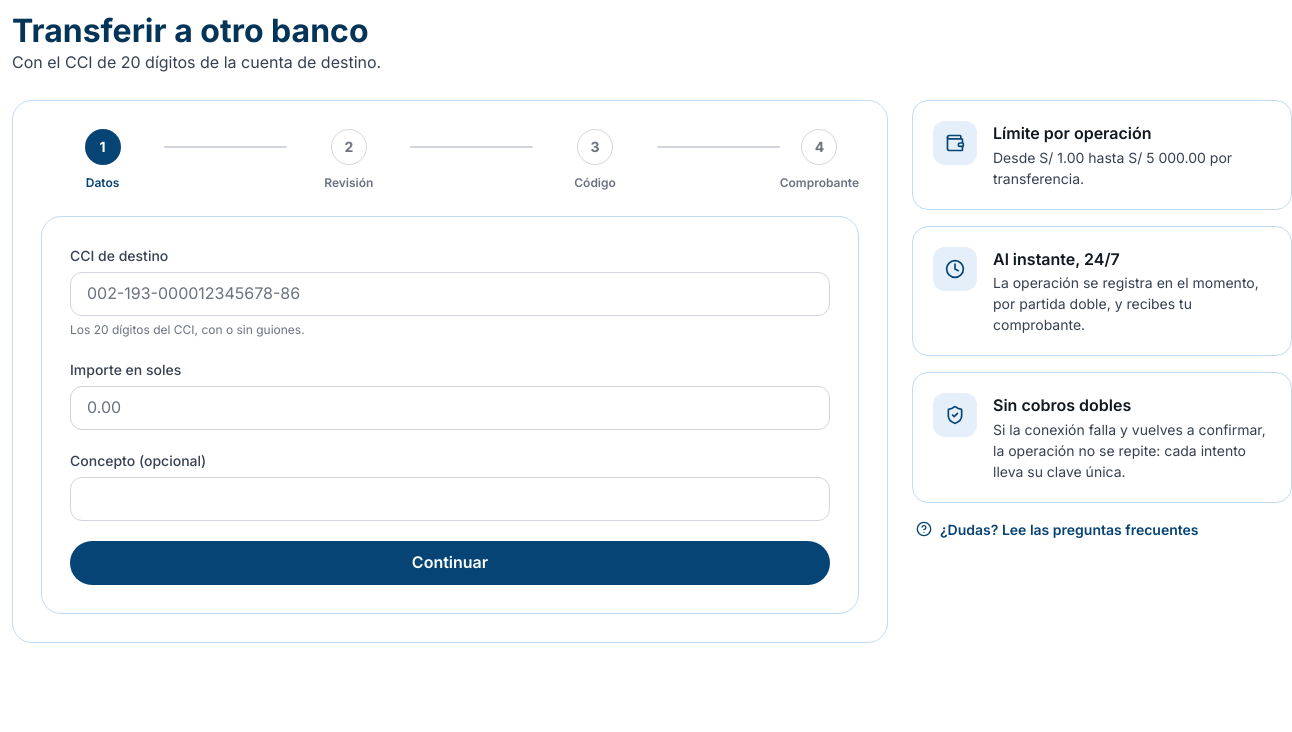
Transferencia interbancaria (HU-11) › no deja continuar con un CCI sin validar ni con un importe mal escrito
Type "12,5,0" into the field labelled "Importe en soles" at x=450, y=408, box [70,386,830,430]
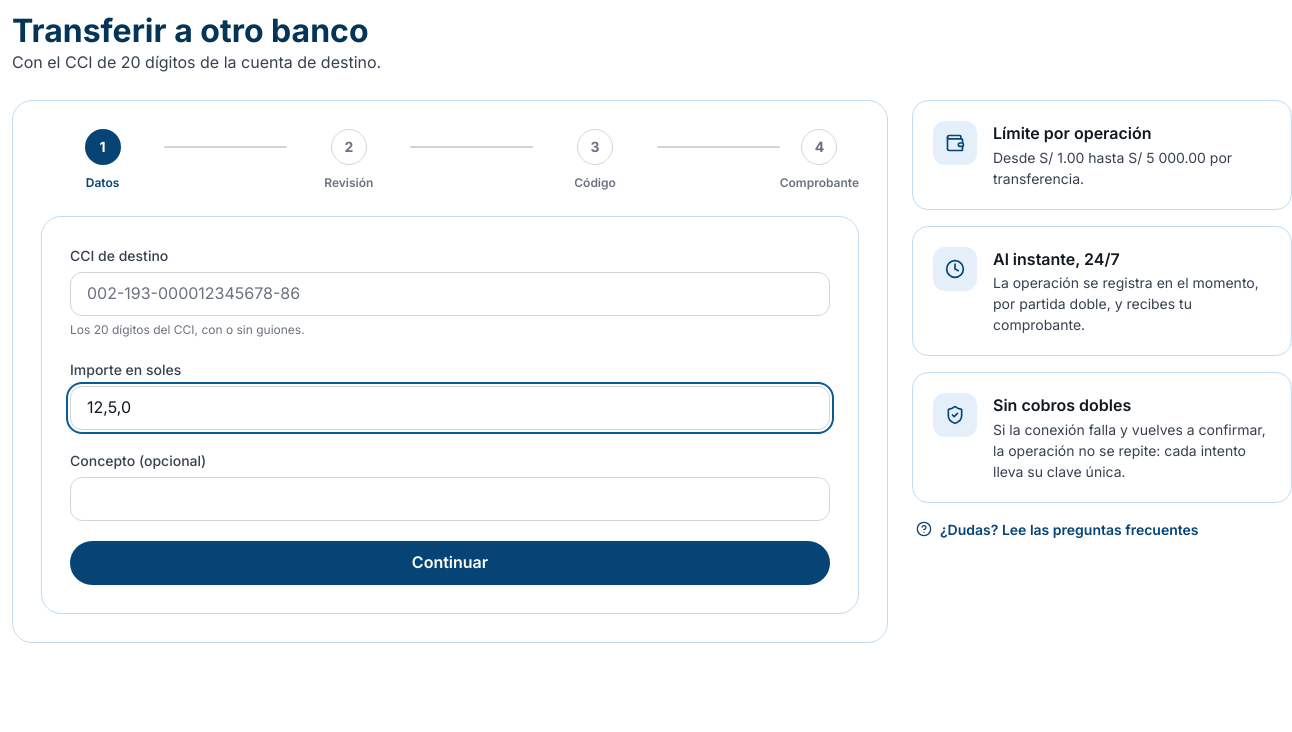
Click the button "Continuar" at x=450, y=563, box [70,541,830,585]
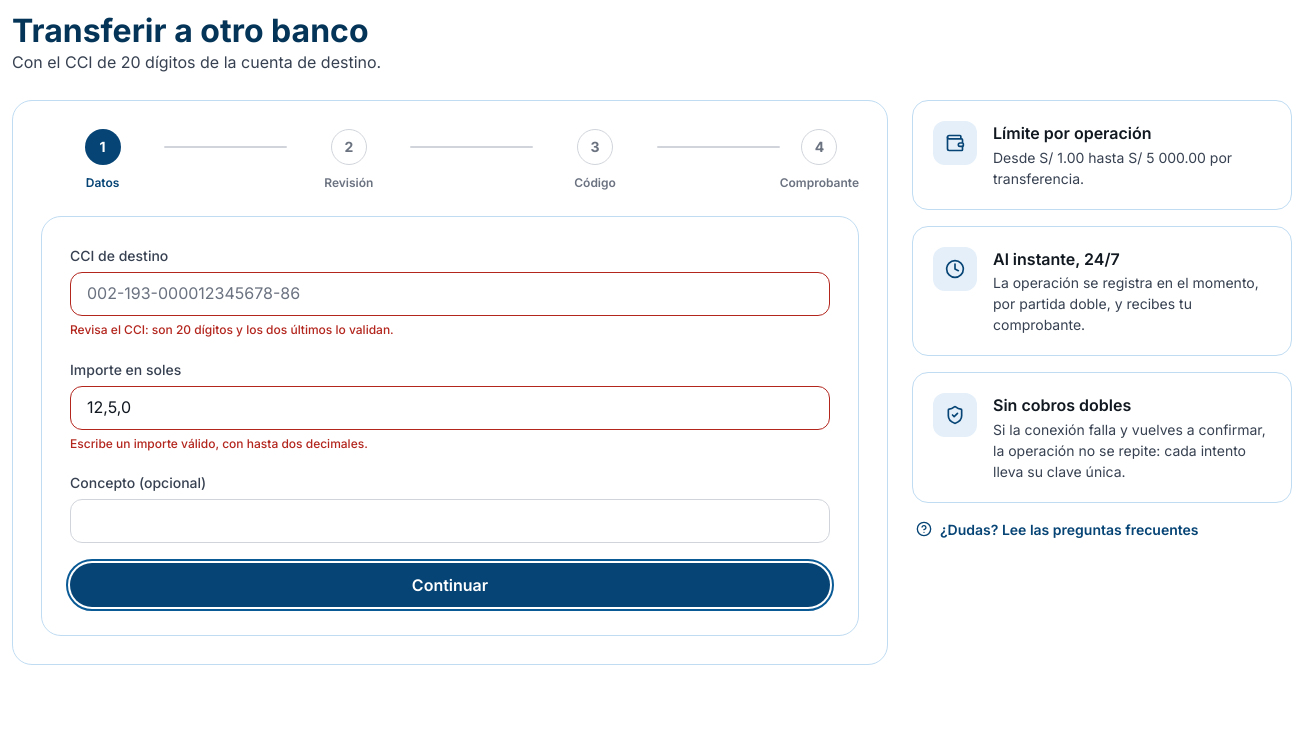
Now the text "Revisa el CCI: son 20 dígitos y los dos últimos lo validan." is shown, box [70,322,394,337]
Now the text "Escribe un importe válido, con hasta dos decimales." is shown, box [70,436,368,451]
